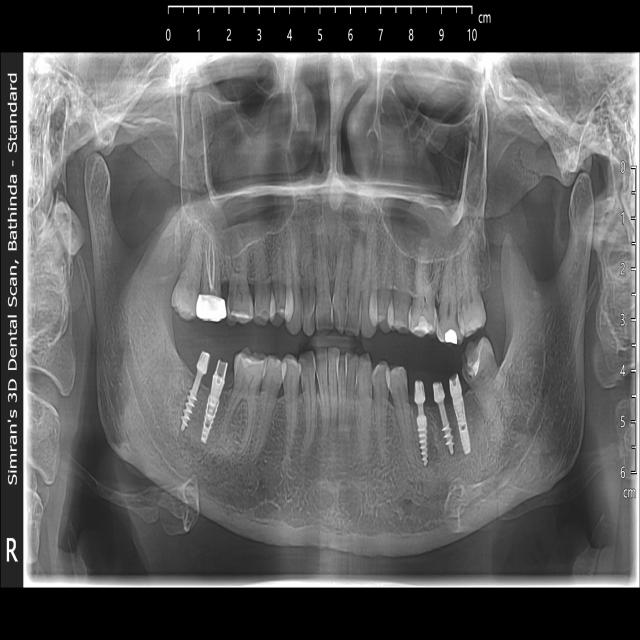Caries: (227, 278, 254, 326)
Crown: (197, 293, 226, 320)
Filling: (462, 338, 498, 393), (459, 284, 484, 338), (410, 300, 436, 336), (445, 329, 457, 345)
Implant: (200, 360, 228, 445), (181, 351, 210, 432), (432, 381, 454, 457), (452, 375, 473, 452), (415, 385, 429, 467)
Root Canal Treatment: (195, 232, 225, 320)
